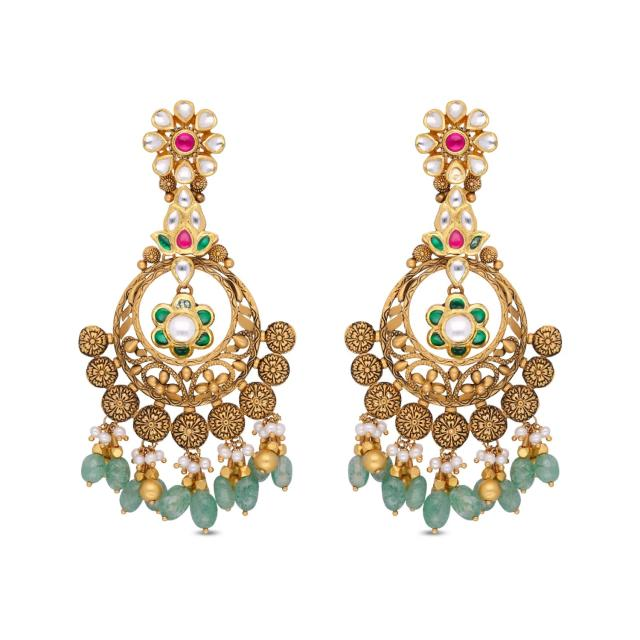missing gem: (449, 163, 463, 181), (470, 235, 483, 250), (176, 299, 191, 309)
